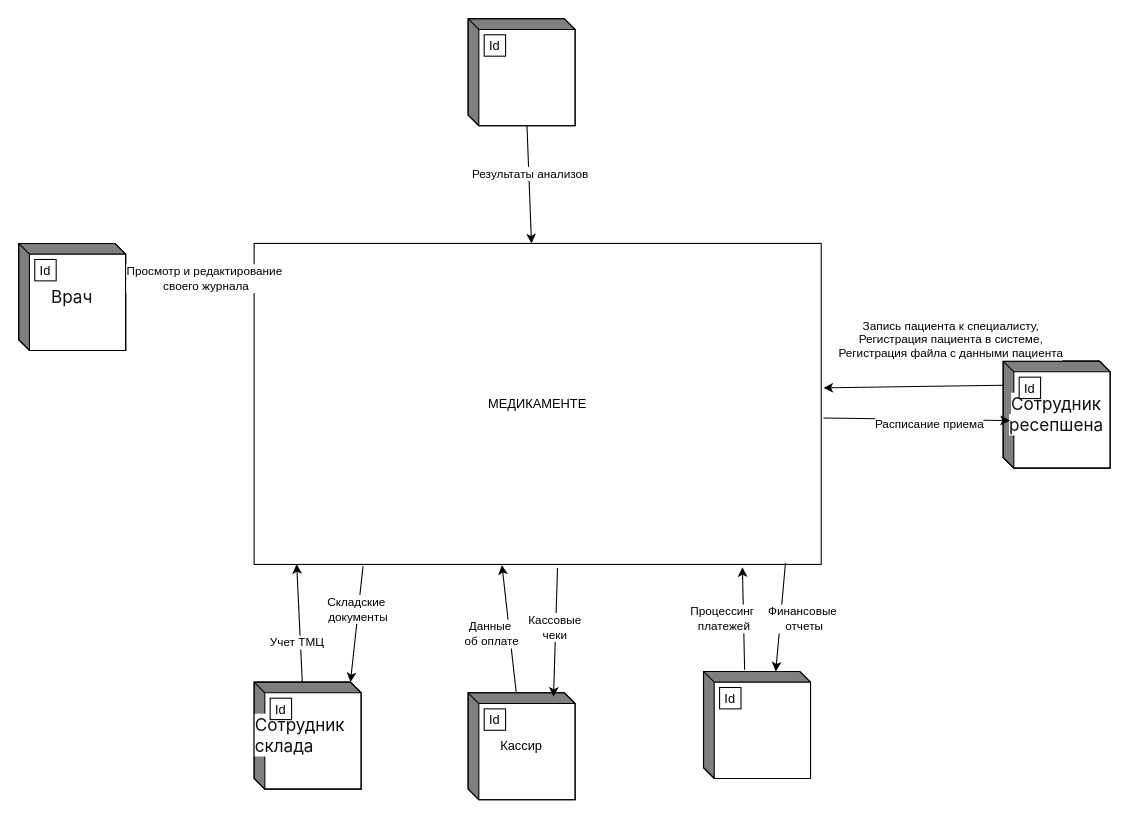
Image size: 1129x819. Some labels were removed from this diagram. The shapes that lost their labels are listed below. From the top down, each one's box as (x1, y1, x2, y2) in pixels, then its label:
(467, 18, 575, 126): Медицинская лаборатория
(702, 670, 811, 778): Бухгалтер
